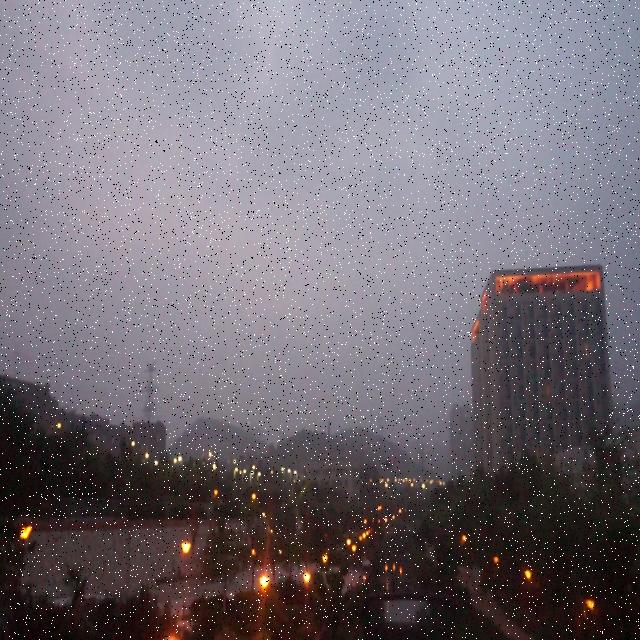UAV: (385, 457, 397, 470)
